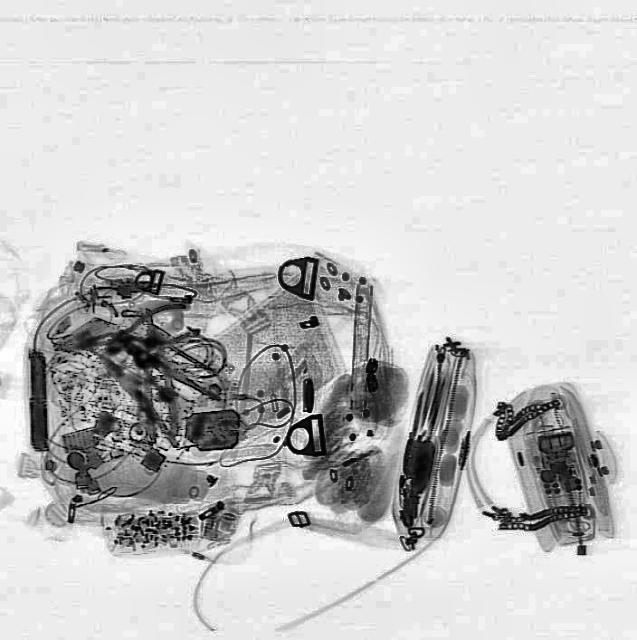Pliers: (67, 308, 225, 452), (76, 298, 191, 364)
